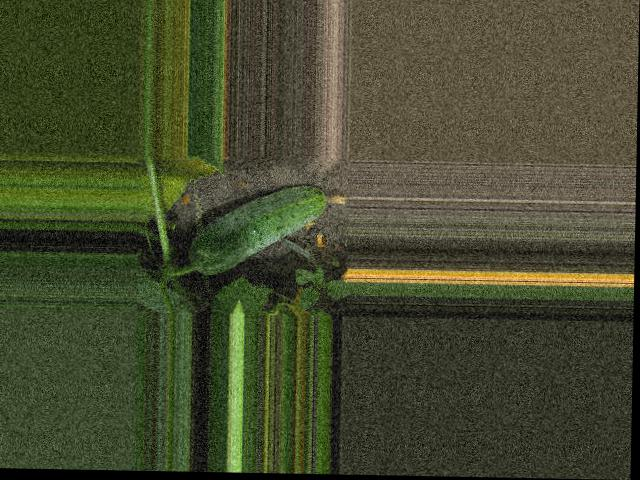cucumber: (189, 182, 348, 277)
